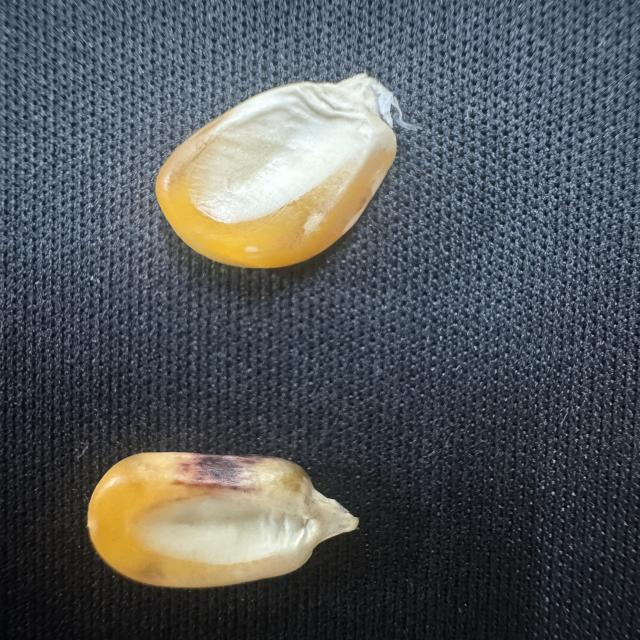Bad-Seed: (77, 440, 365, 594)
Good-Seed: (134, 62, 421, 271)
